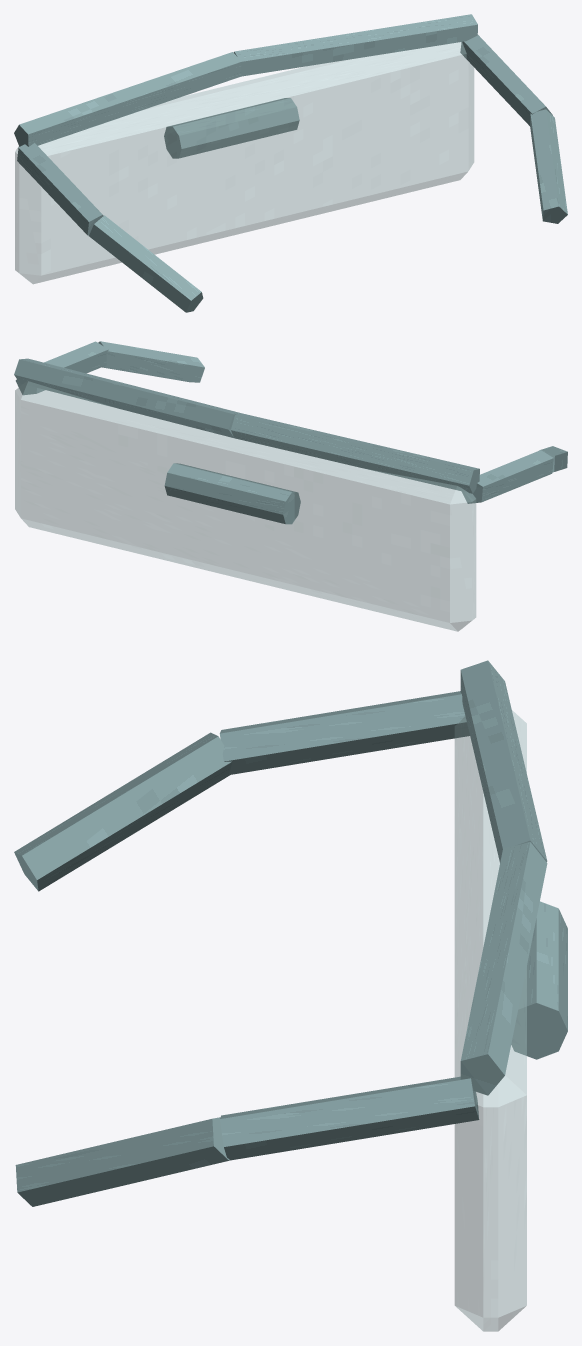
File: glasses_safety.glb
3 renders of one model, top to bottom at view 1: azimuth 30°, elevation 25°; view 2: azimuth 150°, elevation 25°; view 3: azimuth 270°, elevation 25°, orthographic. The views are drawn at different scales.
Visible parts, largest first — view 1: block_wraparound safety shield, block_arms 1 (×2), block_reinforced brow 1, block_reinforced brow 0, block_arms 0 (×2), block_bridge; view 2: block_wraparound safety shield, block_reinforced brow 0, block_reinforced brow 1, block_bridge, block_arms 0 (×2), block_arms 1 (×2); view 3: block_wraparound safety shield, block_arms 0 (×2), block_arms 1 (×2), block_reinforced brow 1, block_reinforced brow 0, block_bridge.
Boxes of the visible parts, box(x1,y1,x2,y2) form: block_wraparound safety shield: box(15, 42, 474, 283); block_arms 1 (×2): box(89, 109, 567, 312); block_reinforced brow 1: box(233, 14, 477, 76); block_reinforced brow 0: box(14, 52, 241, 146); block_arms 0 (×2): box(17, 34, 552, 235); block_bridge: box(164, 98, 299, 158); block_wraparound safety shield: box(15, 381, 476, 631); block_reinforced brow 0: box(231, 413, 479, 493); block_reinforced brow 1: box(14, 358, 242, 437); block_bridge: box(164, 463, 300, 524); block_arms 0 (×2): box(15, 341, 553, 503); block_arms 1 (×2): box(98, 341, 567, 472); block_wraparound safety shield: box(454, 710, 526, 1331); block_arms 0 (×2): box(219, 691, 479, 1160); block_arms 1 (×2): box(14, 732, 232, 1206); block_reinforced brow 1: box(460, 842, 547, 1095); block_reinforced brow 0: box(460, 660, 547, 862); block_bridge: box(511, 901, 567, 1059).
Bounding box in the file's own units: 0.1669 × 0.0586 × 0.0966.
2 materials, 2 textured.
